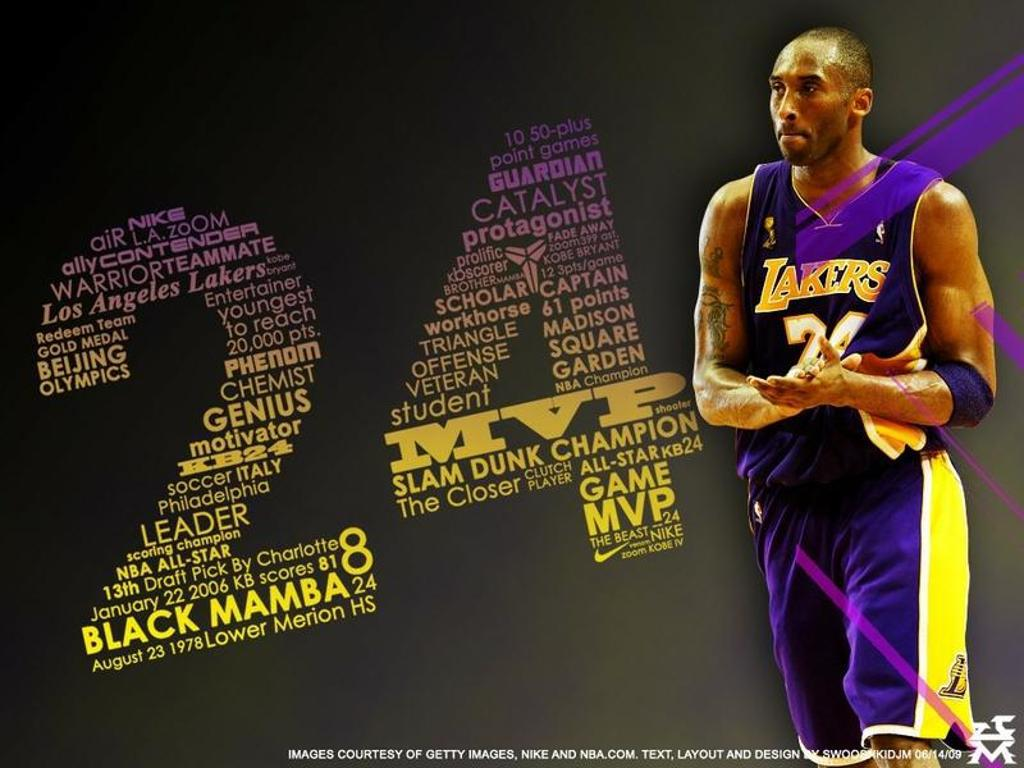face: (771, 43, 855, 163)
